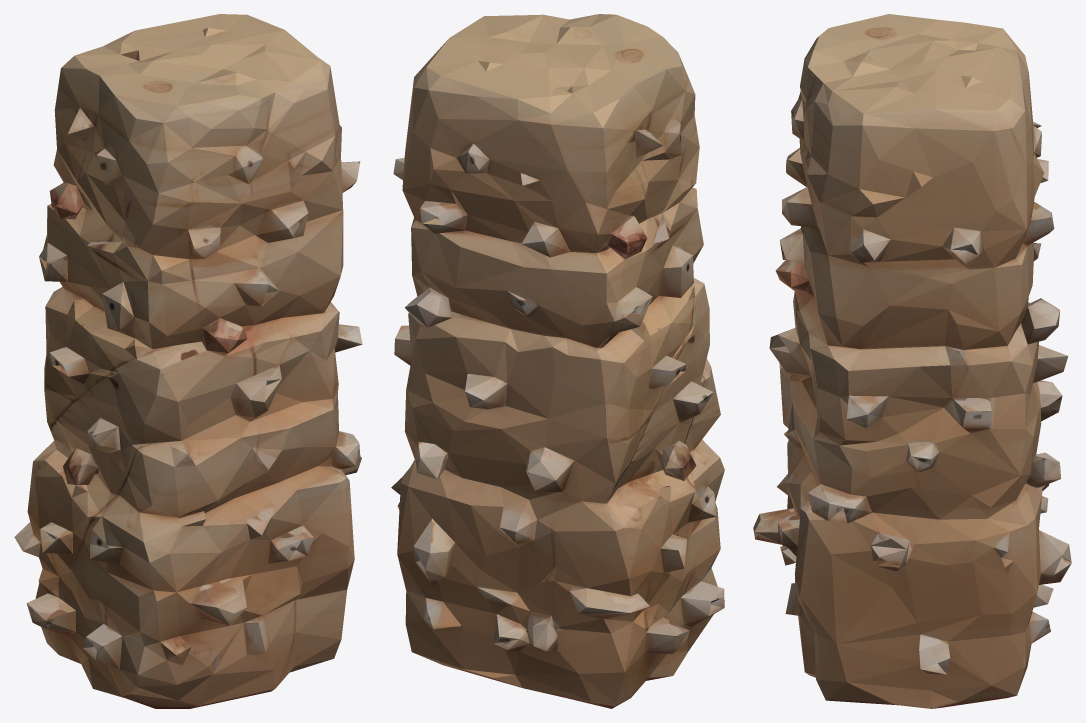
The model's file is beach_wall.glb.
3 renders of one model, left to right at view 1: azimuth 30°, elevation 25°; view 2: azimuth 150°, elevation 25°; view 3: azimuth 270°, elevation 25°, orthographic.
Visible parts, largest first — view 1: tmp2afov7hy.ply; view 2: tmp2afov7hy.ply; view 3: tmp2afov7hy.ply.
Boxes of the visible parts, bbox=[...] form: tmp2afov7hy.ply: bbox=[14, 14, 362, 708]; tmp2afov7hy.ply: bbox=[391, 14, 724, 708]; tmp2afov7hy.ply: bbox=[753, 14, 1071, 708].
Bounding box in the file's own units: 1.01 × 2 × 0.9414.
1 material, 1 textured.
